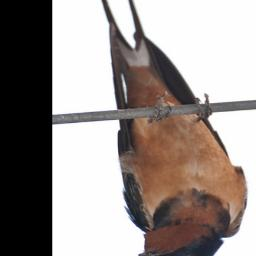Swallow: (96, 0, 249, 256)
